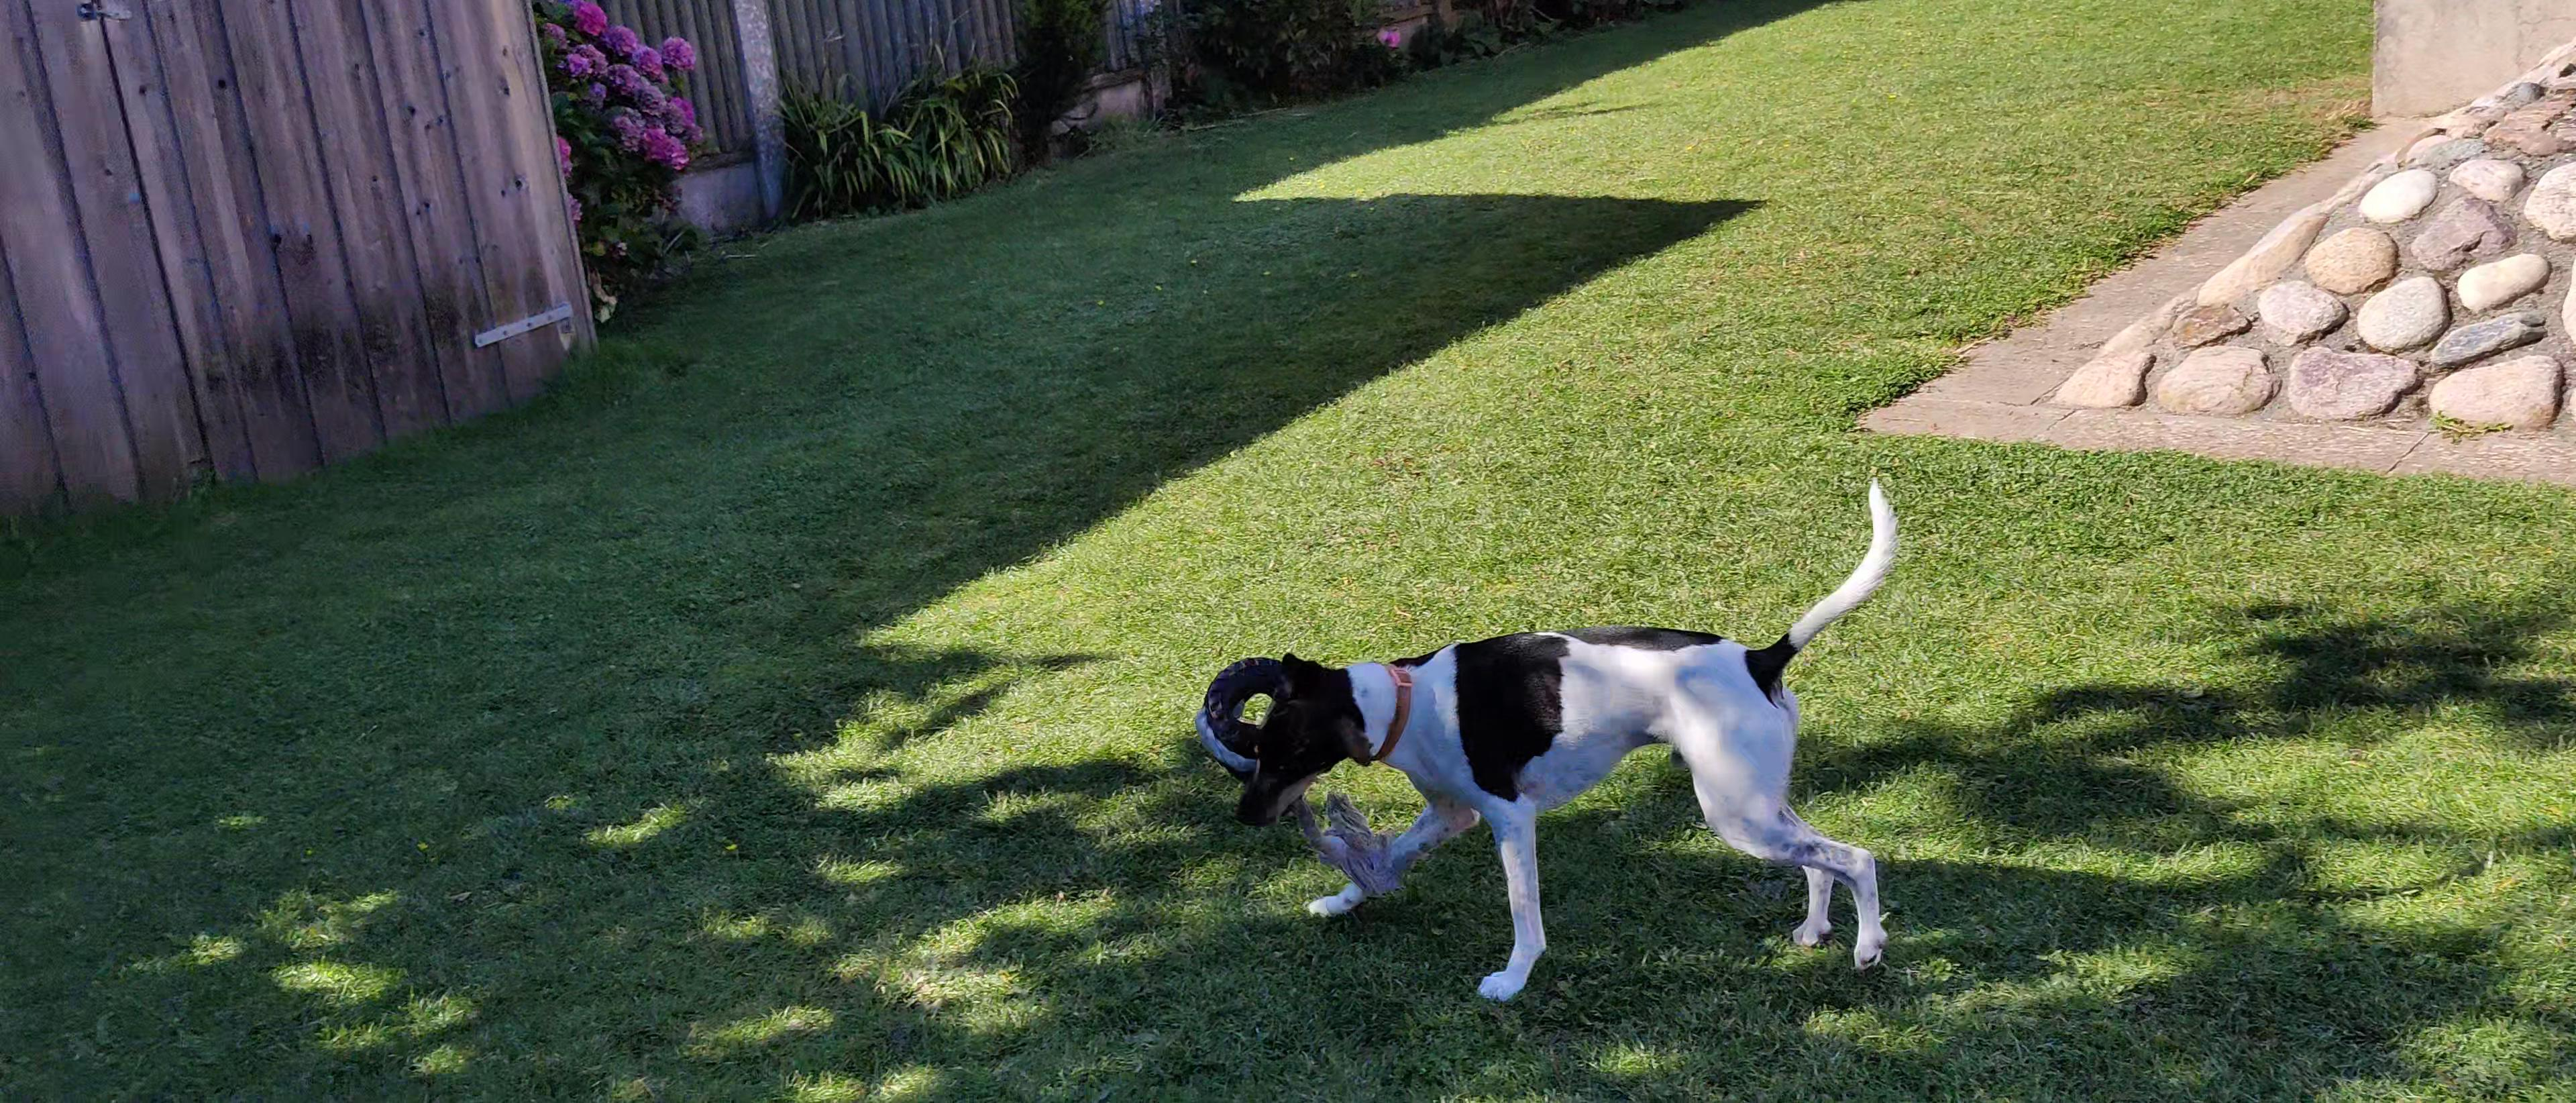Dog: (1230, 460, 1912, 1009)
